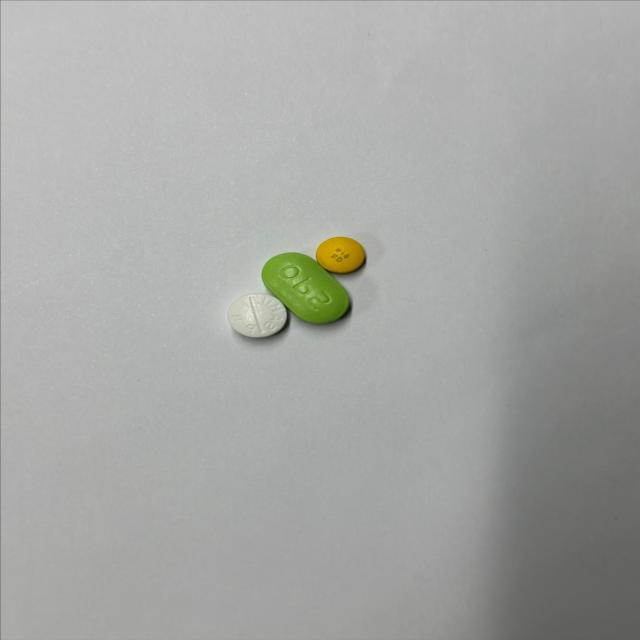Piller: (262, 252, 348, 324), (228, 294, 287, 338), (317, 236, 365, 274)
